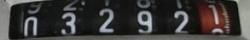digits: (201, 2, 237, 33), (98, 8, 114, 32), (173, 10, 189, 32), (136, 10, 152, 32), (61, 12, 76, 33), (23, 16, 38, 36)
